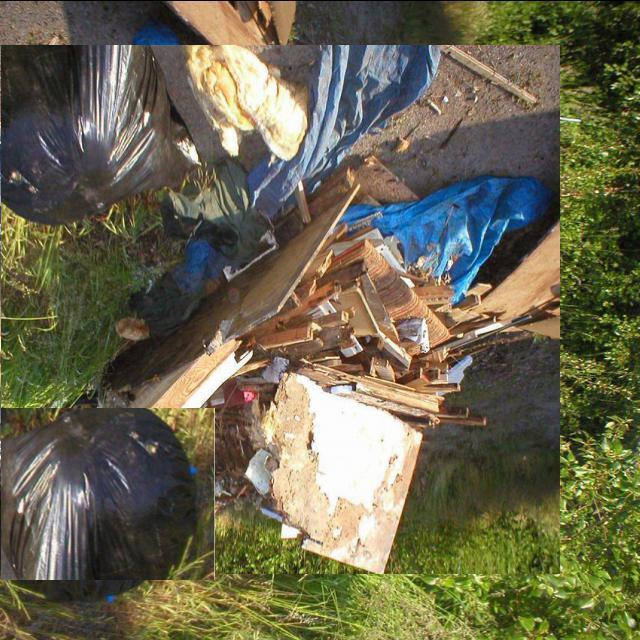Trashbag: (7, 398, 211, 601), (0, 40, 144, 215)
